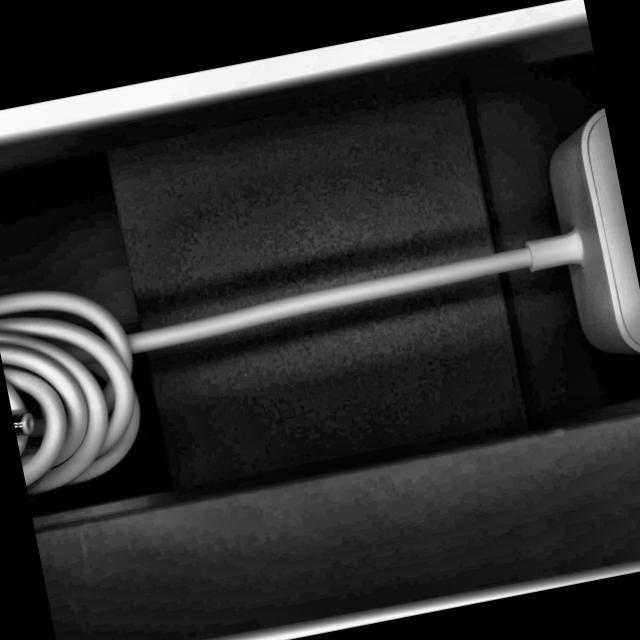Cable: (0, 102, 640, 503)
